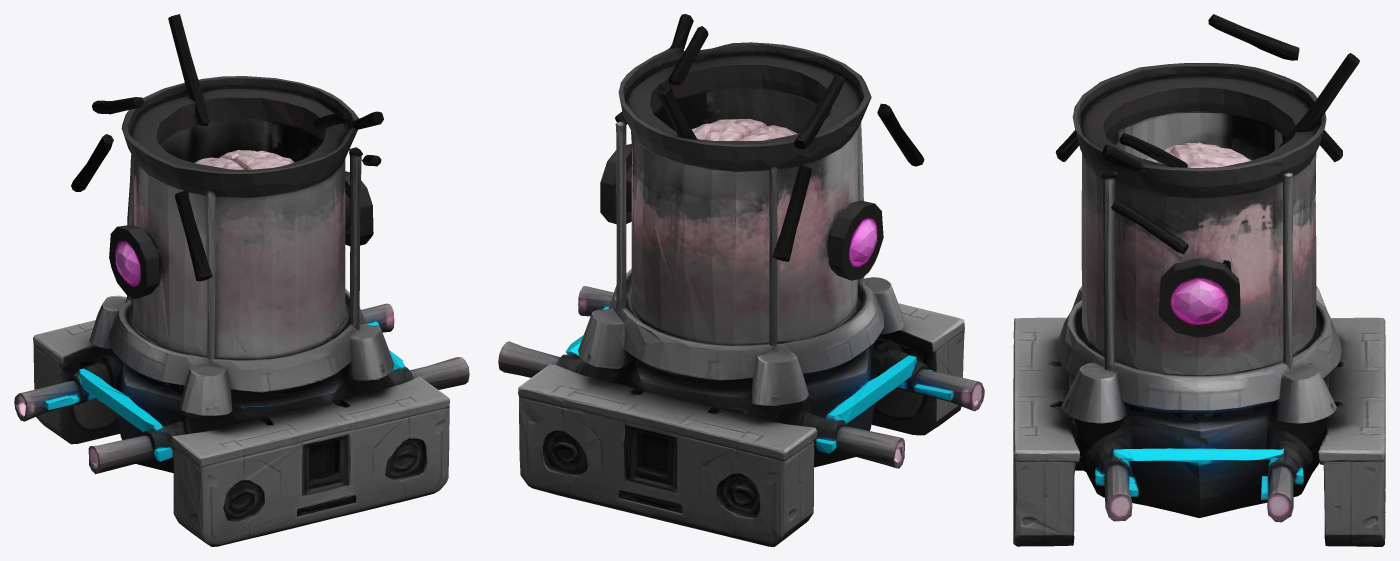
Rendered from jarbrain.glb.
3 renders of one model, left to right at view 1: azimuth 30°, elevation 25°; view 2: azimuth 150°, elevation 25°; view 3: azimuth 270°, elevation 25°, orthographic. The views are drawn at different scales.
Parts seen in each view (by area): view 1: world; view 2: world; view 3: world.
Part boxes in pixels (x1,y1,x2,y2): world: (14, 14, 469, 546); world: (498, 14, 984, 546); world: (1013, 14, 1385, 546).
Size of the model in its own units: 0.9818 by 1 by 0.7776.
Materials: 1 (1 with a texture image).
